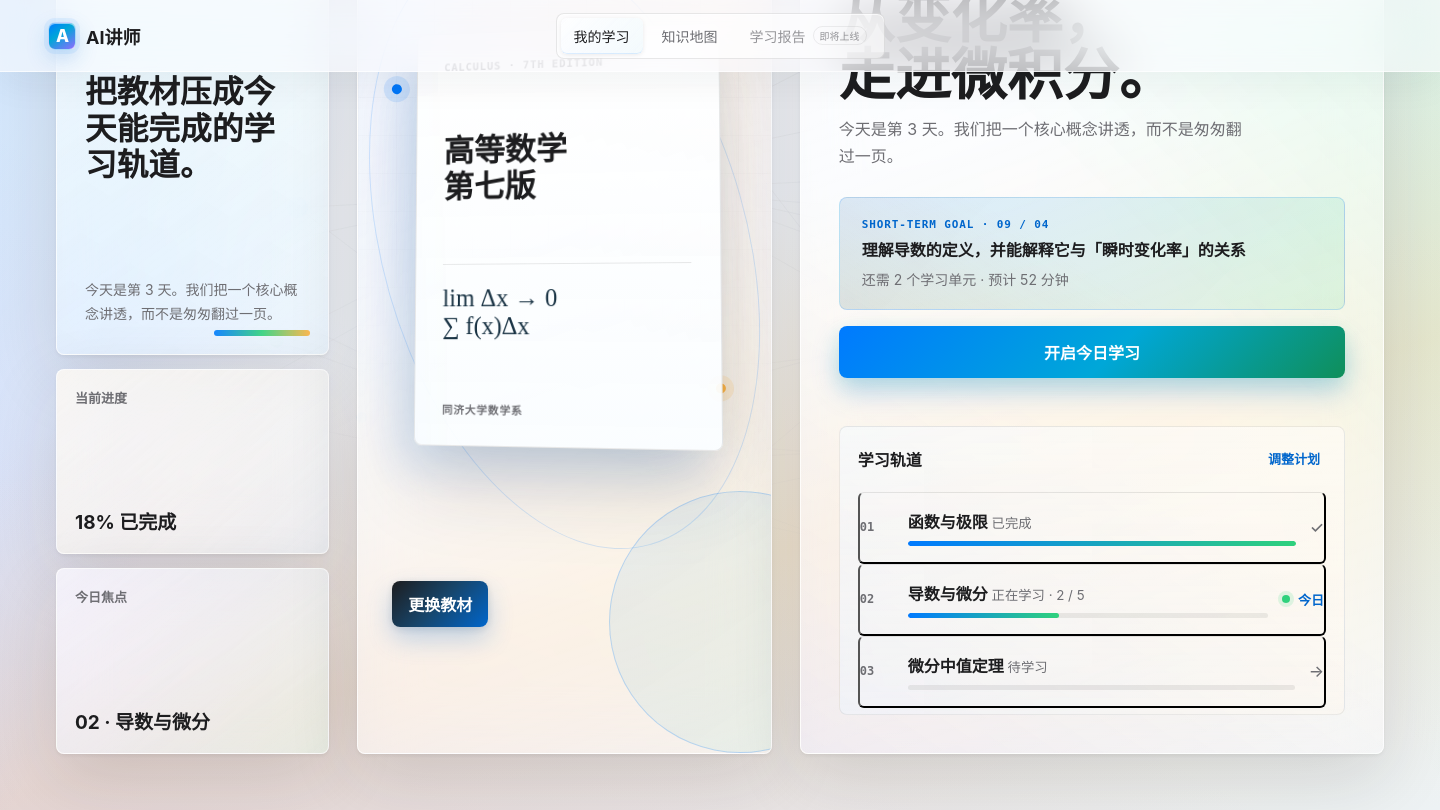
教材选择行 › 没有版次时只显示书名，不编一个「第 3 版」出来
This screenshot has width=1440, height=810.
(page scrolled)
Step 1. Click the button "更换教材" → (440, 604), box [392,581,488,627]
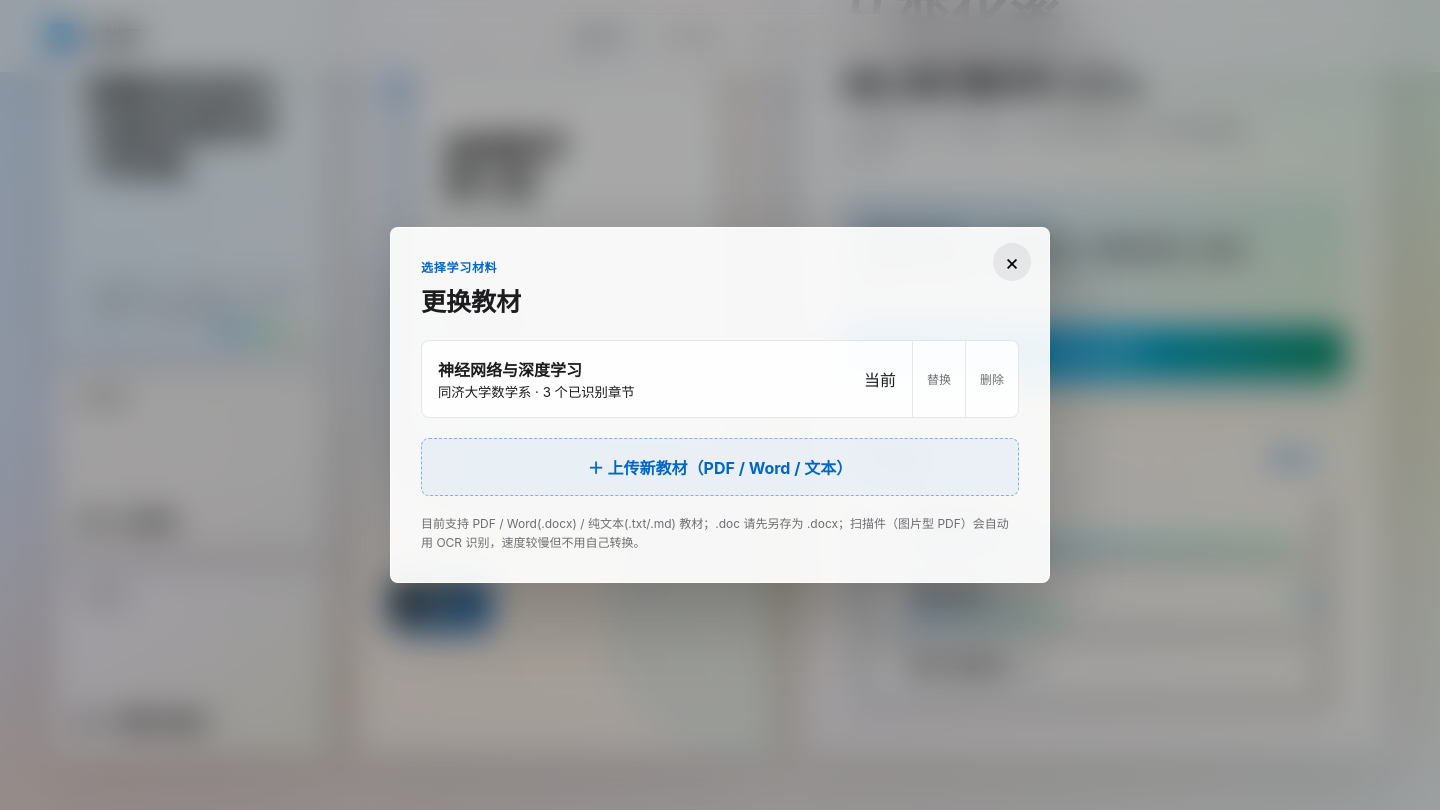
Expected: the button with test id "book-choice-pdf1" shows "神经网络与深度学习", [422,341,912,417]
